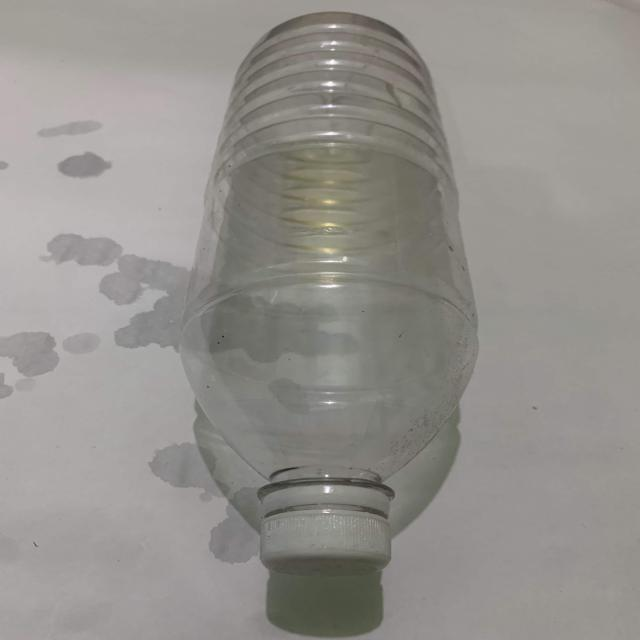bottle: (193, 1, 477, 580)
